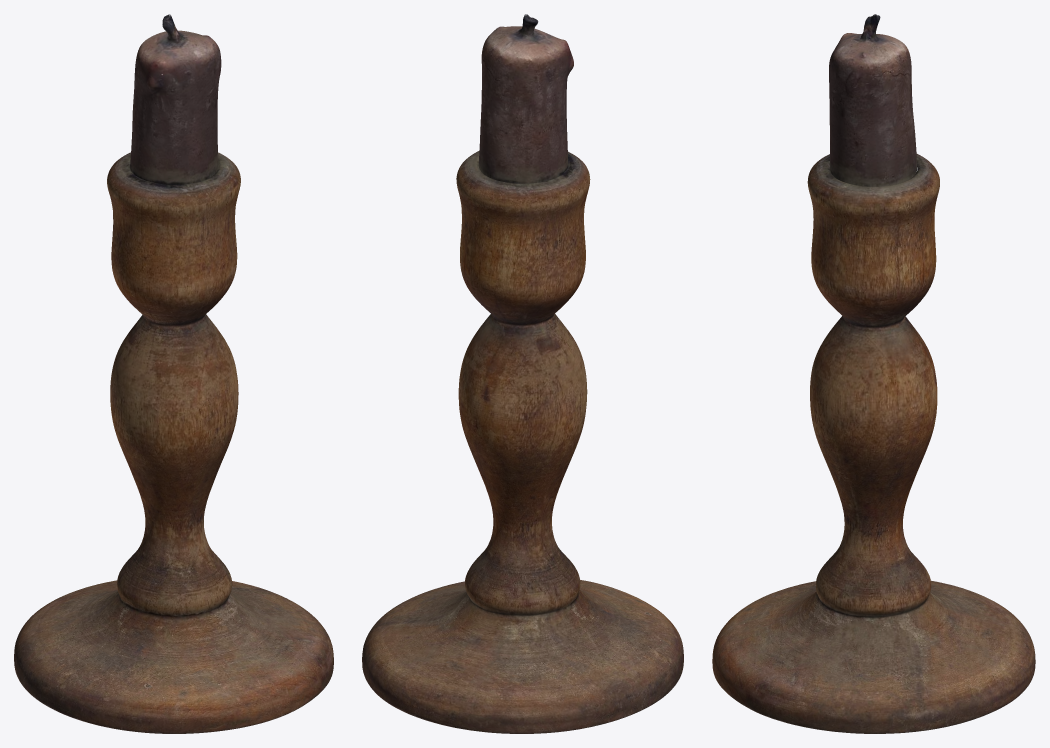
Rendered from wooden_candlestick.glb.
The picture shows the model from 3 angles, left to right: view 1: azimuth 30°, elevation 25°; view 2: azimuth 150°, elevation 25°; view 3: azimuth 270°, elevation 25°; orthographic projection.
Visible parts, largest first — view 1: wooden_candlestick; view 2: wooden_candlestick; view 3: wooden_candlestick.
Boxes of the visible parts, x1=… form: wooden_candlestick: x1=14, y1=14, x2=333, y2=733; wooden_candlestick: x1=362, y1=14, x2=683, y2=733; wooden_candlestick: x1=712, y1=14, x2=1035, y2=733.
Bounding box in the file's own units: 0.0972 × 0.2197 × 0.0987.
Materials: 1 (1 with a texture image).
